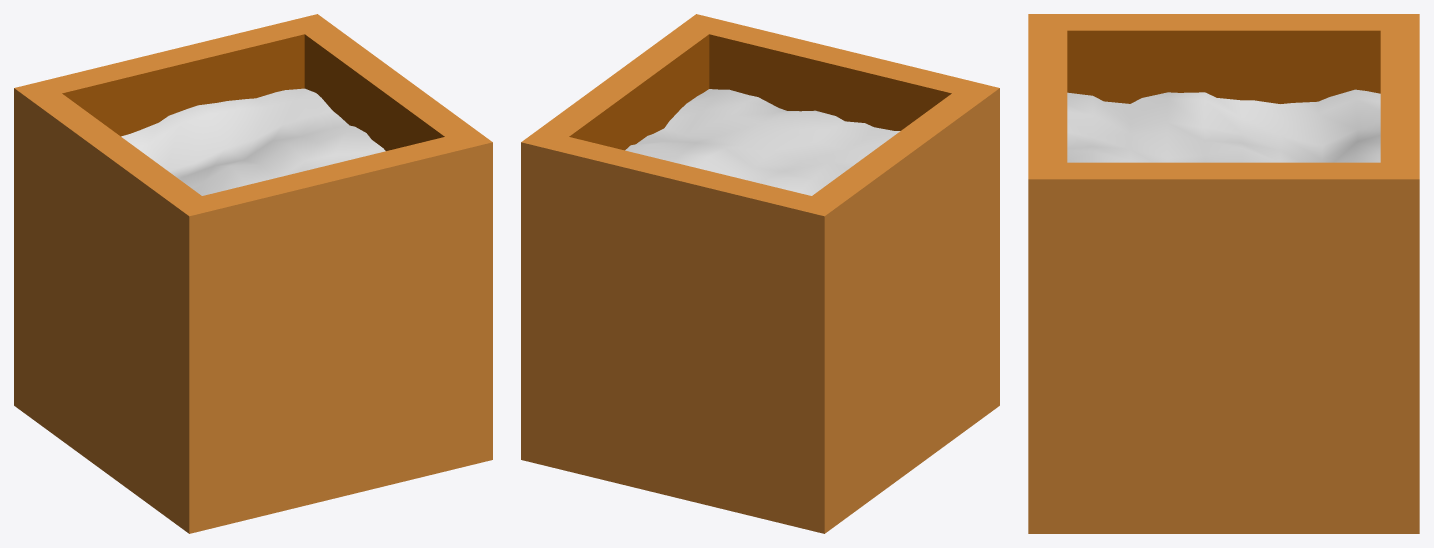
The model's file is box_01_mockup.fbx.
3 views of the same model, side by side, from view 1: azimuth 30°, elevation 25°; view 2: azimuth 150°, elevation 25°; view 3: azimuth 270°, elevation 25° (orthographic). The views are drawn at different scales.
Visible parts, largest first — view 1: Cube; view 2: Cube; view 3: Cube.
Part boxes in pixels (left/top/right/bottom): Cube: left=14, top=14, right=492, bottom=533; Cube: left=521, top=14, right=999, bottom=533; Cube: left=1028, top=14, right=1419, bottom=533.
Size of the model in its own units: 0.5 by 0.5 by 0.5.
